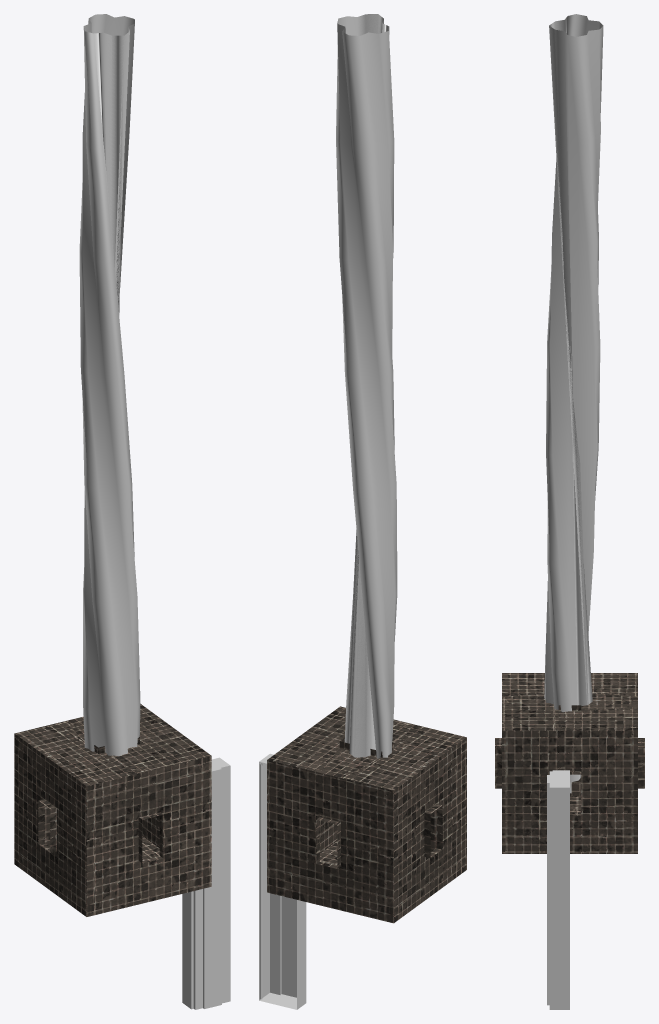
File: Door.fbx
3 renders of one model, left to right at view 1: azimuth 30°, elevation 25°; view 2: azimuth 150°, elevation 25°; view 3: azimuth 270°, elevation 25°, orthographic. The views are drawn at different scales.
Visible parts, largest first — view 1: Circle.005, Cube, Cube.002; view 2: Circle.005, Cube, Cube.002, Circle.004; view 3: Circle.005, Cube, Cube.002.
Boxes of the visible parts, left/top/right/bottom form: Circle.005: left=79, top=14, right=140, bottom=756; Cube: left=14, top=704, right=211, bottom=916; Cube.002: left=182, top=757, right=230, bottom=1009; Circle.005: left=336, top=14, right=397, bottom=758; Cube: left=267, top=706, right=466, bottom=923; Cube.002: left=259, top=753, right=306, bottom=1009; Circle.004: left=259, top=763, right=262, bottom=999; Circle.005: left=544, top=14, right=603, bottom=782; Cube: left=495, top=673, right=644, bottom=853; Cube.002: left=547, top=770, right=569, bottom=1009.
Bounding box in the file's own units: 280 × 1516 × 220.
